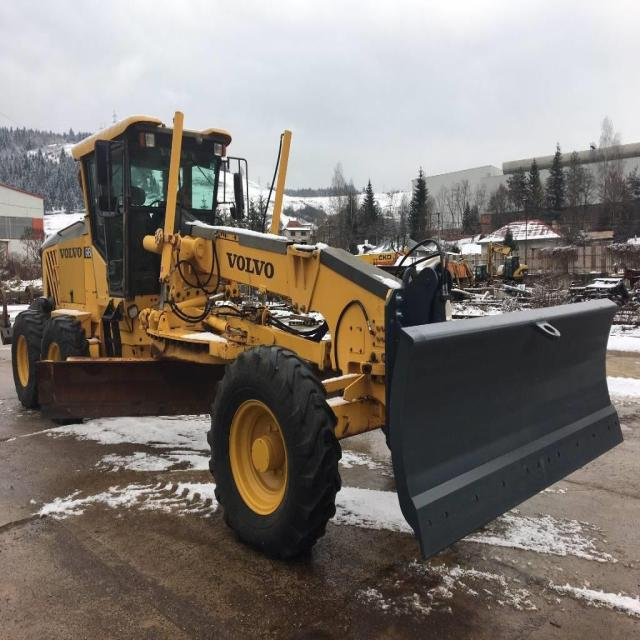buldozerpayloadergrader: (8, 113, 562, 569)
